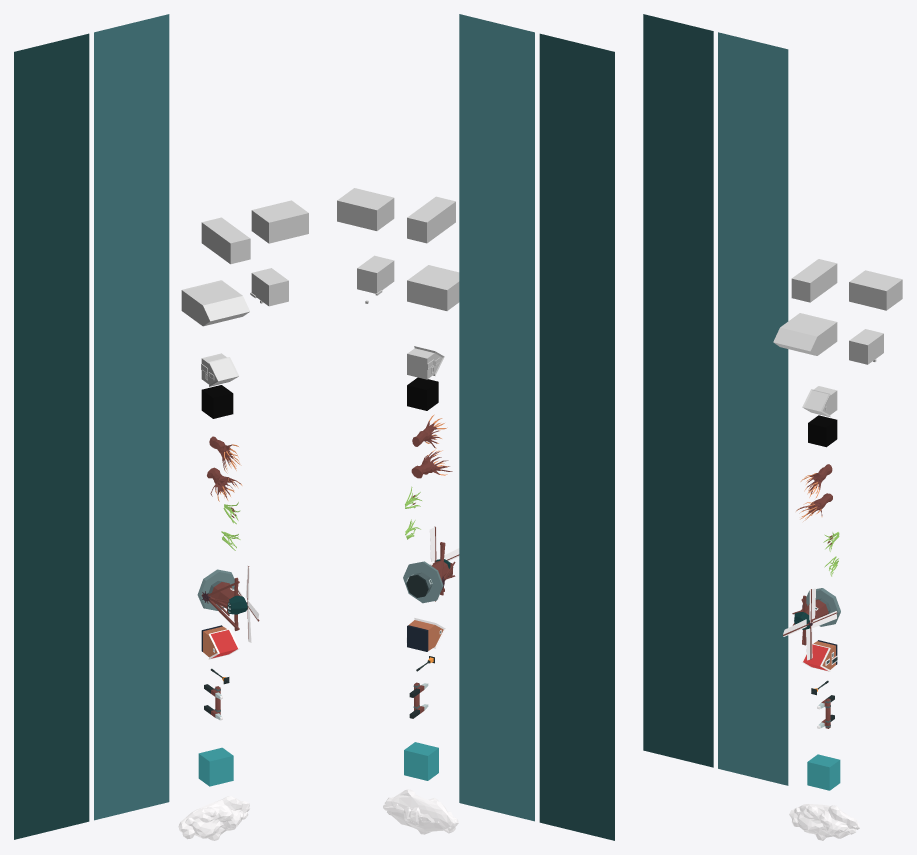
Rendered from windmill.glb.
3 views of the same model, side by side, from view 1: azimuth 30°, elevation 25°; view 2: azimuth 150°, elevation 25°; view 3: azimuth 330°, elevation 25° (orthographic). The views are drawn at different scales.
Visible parts, largest first — view 1: water test, RijHuis1.001, Cloud3, WaterTegel, Cube.008, Huis, MolenBase, HuisBackup, Pad, MolenTop, Cube.002, Cube.006; view 2: water test, RijHuis1.001, Cloud3, MolenBase, WaterTegel, Cube.008, Huis, HuisBackup, Cube, Cube.003, Pad, Cube.004; view 3: water test, RijHuis1.001, Cloud3, WaterTegel, Cube.008, MolenWieken, HuisBackup, Pad, Huis, MolenBase, Cube.002, Cube.007.
Part boxes in pixels (bbox=[...]): water test: bbox=[14, 14, 169, 839]; RijHuis1.001: bbox=[181, 280, 249, 326]; Cloud3: bbox=[179, 796, 249, 840]; WaterTegel: bbox=[198, 747, 233, 786]; Cube.008: bbox=[251, 268, 288, 306]; Huis: bbox=[201, 625, 239, 659]; MolenBase: bbox=[197, 569, 239, 610]; HuisBackup: bbox=[201, 353, 238, 386]; Pad: bbox=[201, 385, 233, 418]; MolenTop: bbox=[201, 577, 247, 630]; Cube.002: bbox=[224, 234, 250, 264]; Cube.006: bbox=[263, 214, 288, 243]; water test: bbox=[459, 14, 614, 840]; RijHuis1.001: bbox=[407, 265, 459, 310]; Cloud3: bbox=[384, 789, 455, 834]; MolenBase: bbox=[403, 561, 448, 603]; WaterTegel: bbox=[404, 742, 438, 780]; Cube.008: bbox=[357, 255, 394, 293]; Huis: bbox=[406, 618, 445, 651]; HuisBackup: bbox=[407, 346, 444, 379]; Cube: bbox=[407, 209, 438, 243]; Cube.003: bbox=[357, 197, 388, 230]; Pad: bbox=[407, 377, 438, 410]; Cube.004: bbox=[337, 192, 367, 226]; water test: bbox=[643, 14, 788, 785]; RijHuis1.001: bbox=[773, 313, 837, 355]; Cloud3: bbox=[793, 804, 858, 840]; WaterTegel: bbox=[807, 754, 840, 790]; Cube.008: bbox=[849, 329, 883, 364]; MolenWieken: bbox=[783, 588, 837, 660]; HuisBackup: bbox=[802, 386, 837, 417]; Pad: bbox=[808, 415, 837, 447]; Huis: bbox=[801, 640, 837, 671]; MolenBase: bbox=[802, 588, 840, 626]; Cube.002: bbox=[791, 274, 815, 302]; Cube.007: bbox=[868, 282, 891, 310].
Bounding box in the file's own units: 27.77 × 79.61 × 9.22.
1 material, 1 textured.
